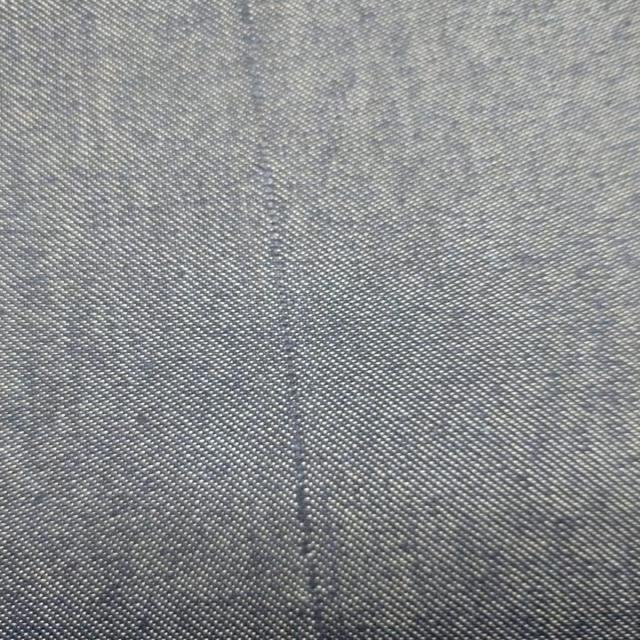Line: (230, 2, 332, 640)
